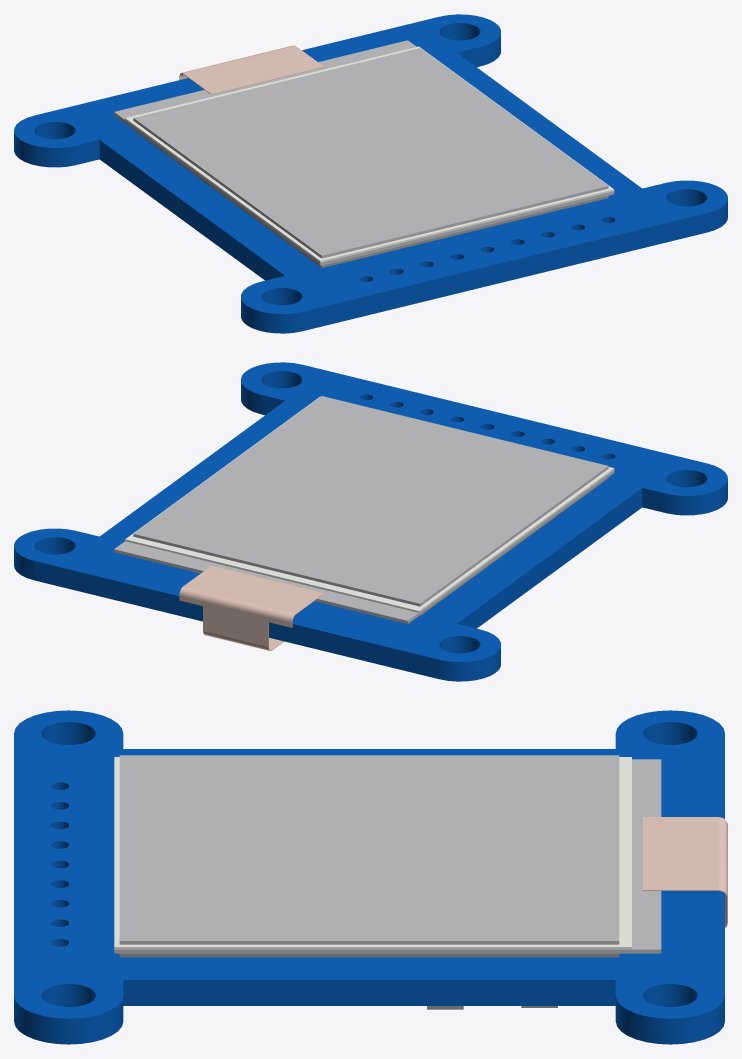
Rendered from ada-3502.glb.
The picture shows the model from 3 angles, top to bottom: view 1: azimuth 30°, elevation 25°; view 2: azimuth 150°, elevation 25°; view 3: azimuth 270°, elevation 25°; orthographic projection. The views are drawn at different scales.
Visible parts, largest first — view 1: 0.5833333333333334_0.5833333333333334_0.5833333333333334_0.8, 0_0.08333333333333333_0.5833333333333334_0, 0.9166666666666666_0.9166666666666666_0.9166666666666666_0.8, 0.8333333333333334_0.5833333333333334_0.5833333333333334_0, 0.3333333333333333_0.3333333333333333_0.3333333333333333_0; view 2: 0.5833333333333334_0.5833333333333334_0.5833333333333334_0.8, 0_0.08333333333333333_0.5833333333333334_0, 0.8333333333333334_0.5833333333333334_0.5833333333333334_0, 0.9166666666666666_0.9166666666666666_0.9166666666666666_0.8; view 3: 0.5833333333333334_0.5833333333333334_0.5833333333333334_0.8, 0_0.08333333333333333_0.5833333333333334_0, 0.9166666666666666_0.9166666666666666_0.9166666666666666_0.8, 0.8333333333333334_0.5833333333333334_0.5833333333333334_0, 0.3333333333333333_0.3333333333333333_0.3333333333333333_0.
Part boxes in pixels (box(x1,y1,x2,y2)): 0.5833333333333334_0.5833333333333334_0.5833333333333334_0.8: box(114, 40, 614, 265); 0_0.08333333333333333_0.5833333333333334_0: box(14, 14, 727, 333); 0.9166666666666666_0.9166666666666666_0.9166666666666666_0.8: box(125, 46, 614, 262); 0.8333333333333334_0.5833333333333334_0.5833333333333334_0: box(179, 45, 323, 94); 0.3333333333333333_0.3333333333333333_0.3333333333333333_0: box(133, 129, 608, 267); 0.5833333333333334_0.5833333333333334_0.5833333333333334_0.8: box(114, 396, 614, 623); 0_0.08333333333333333_0.5833333333333334_0: box(14, 362, 727, 681); 0.8333333333333334_0.5833333333333334_0.5833333333333334_0: box(179, 565, 324, 650); 0.9166666666666666_0.9166666666666666_0.9166666666666666_0.8: box(125, 396, 614, 612); 0.5833333333333334_0.5833333333333334_0.5833333333333334_0.8: box(114, 755, 661, 953); 0_0.08333333333333333_0.5833333333333334_0: box(14, 710, 724, 1044); 0.9166666666666666_0.9166666666666666_0.9166666666666666_0.8: box(114, 757, 631, 949); 0.8333333333333334_0.5833333333333334_0.5833333333333334_0: box(643, 817, 727, 927); 0.3333333333333333_0.3333333333333333_0.3333333333333333_0: box(119, 953, 619, 1009).
Size of the model in its own units: 4 by 0.4599 by 3.92.
